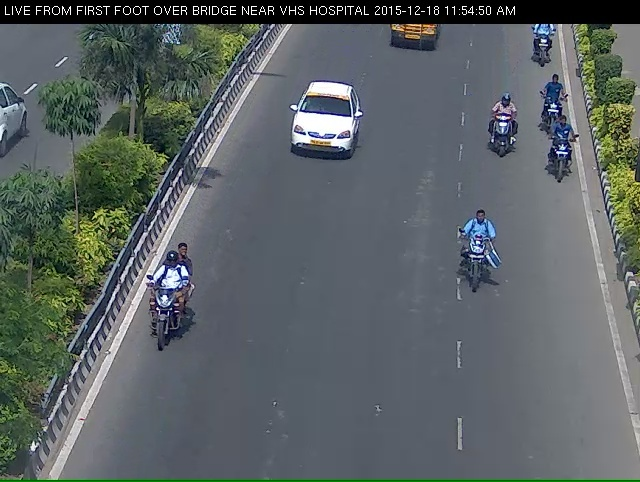Car: (279, 95, 359, 177)
Person: (128, 267, 196, 381), (455, 224, 497, 311), (477, 100, 521, 178), (544, 123, 583, 195), (524, 18, 558, 78), (536, 85, 567, 133)
